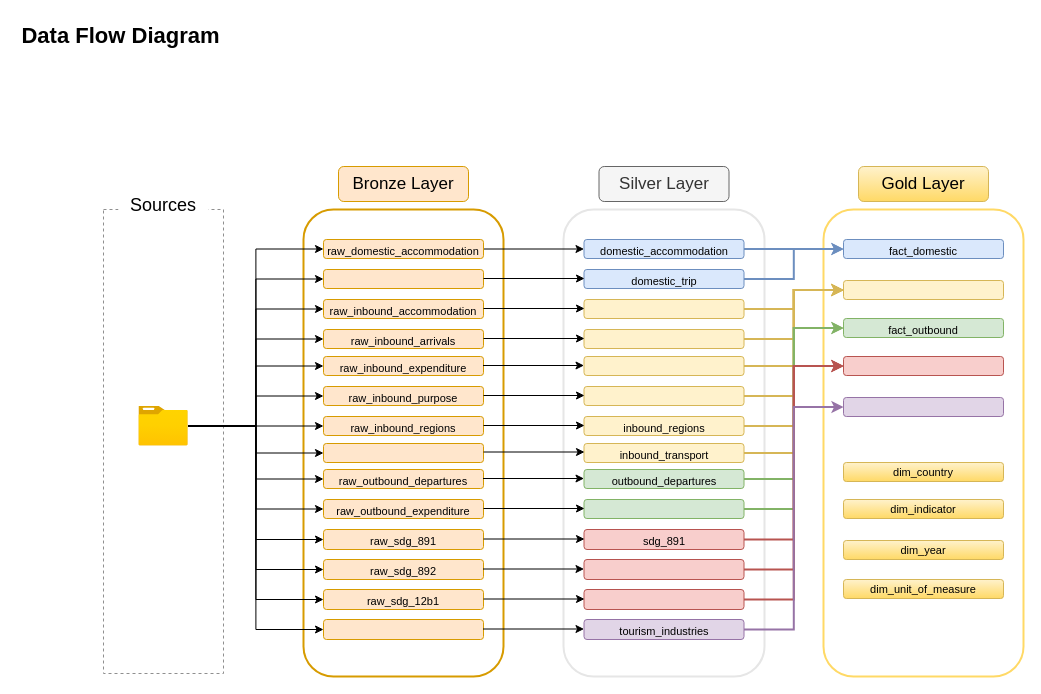
This 1041x694 diagram has some shape labels left out. Here are the shapes that lost their labels. From the top down, the centre of each, then its label:
At [403,278]: "raw_domestic_trip".
At [923,290]: "fact_inbound".
At [663,308]: "inbound_accommodation".
At [663,338]: "inbound_arrivals".
At [663,366]: "inbound_expenditure".
At [923,366]: "fact_sdg".
At [663,396]: "inbound_purpose".
At [923,406]: "fact_industries".
At [163,426]: "CSV".
At [403,452]: "raw_inbound_transport".
At [663,508]: "outbound_expenditure".
At [663,569]: "sdg_892".
At [663,599]: "sdg_12b1".
At [403,629]: "raw_tourism_industries".
